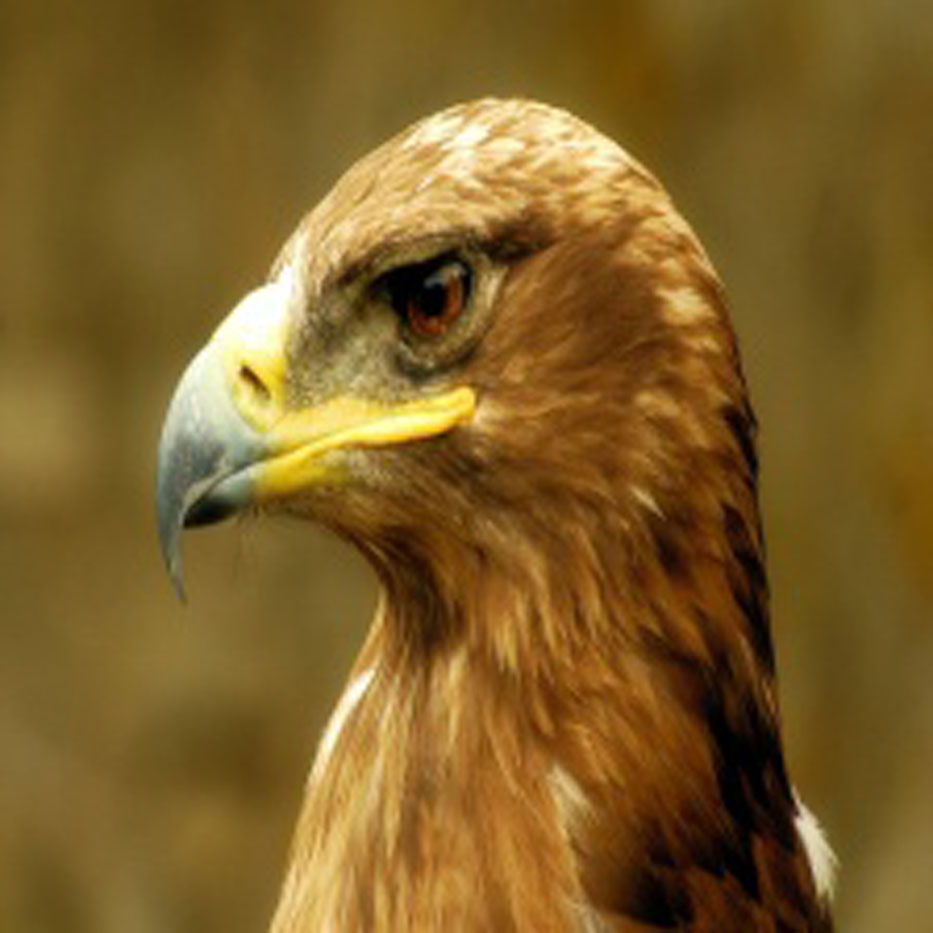Pengoyak Daging: (126, 309, 301, 613)
